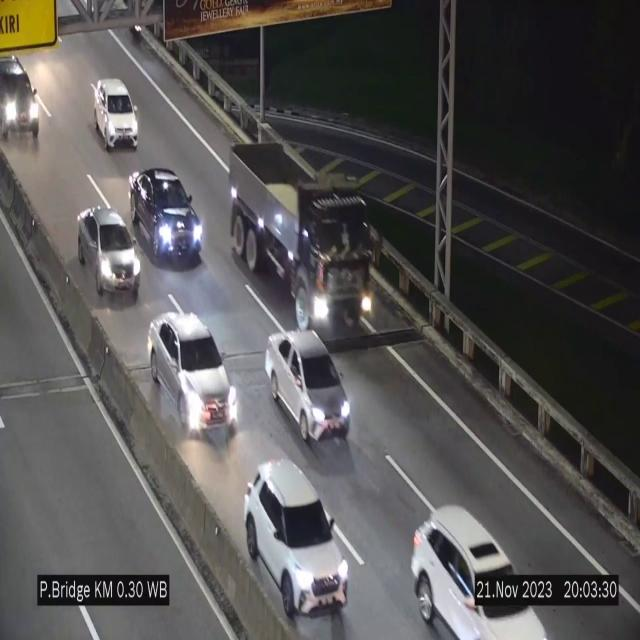Car: (417, 499, 549, 640), (245, 462, 349, 633), (148, 312, 236, 438), (264, 329, 352, 445), (129, 168, 203, 264), (78, 206, 141, 300), (0, 55, 42, 142), (94, 79, 138, 149)
Truck: (225, 137, 375, 340)
